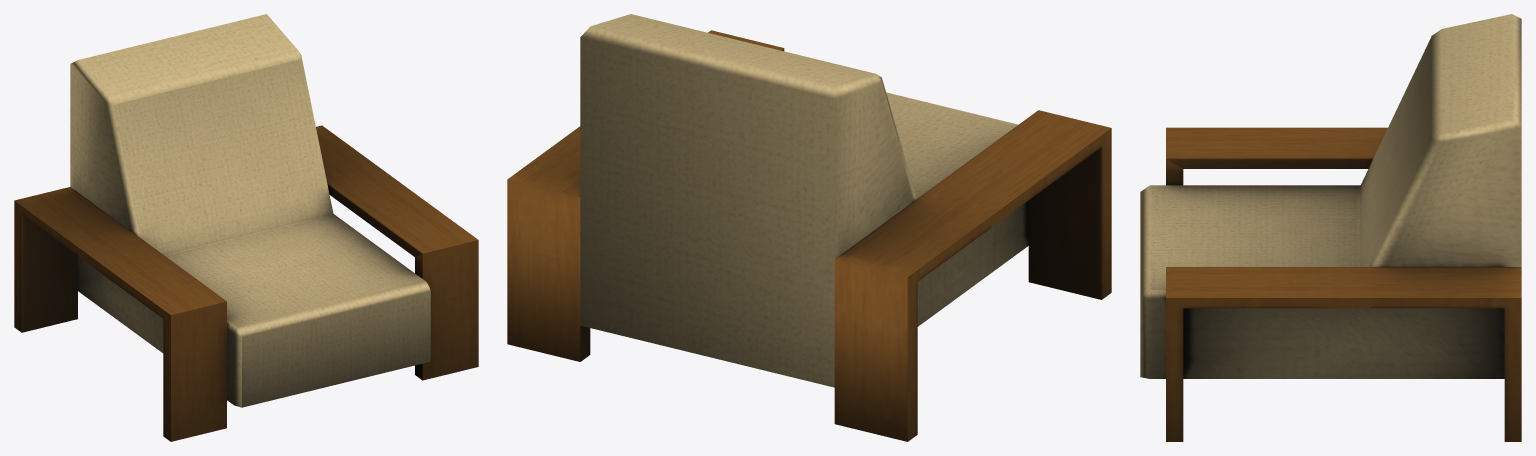
Rendered from Sofa1.fbx.
3 renders of one model, left to right at view 1: azimuth 30°, elevation 25°; view 2: azimuth 150°, elevation 25°; view 3: azimuth 270°, elevation 25°, orthographic. The views are drawn at different scales.
Visible parts, largest first — view 1: Sofa2; view 2: Sofa2; view 3: Sofa2.
Boxes of the visible parts, left/top/right/bottom form: Sofa2: left=14, top=14, right=478, bottom=441; Sofa2: left=507, top=14, right=1111, bottom=441; Sofa2: left=1140, top=14, right=1521, bottom=441.
Bounding box in the file's own units: 199 × 158 × 188.
